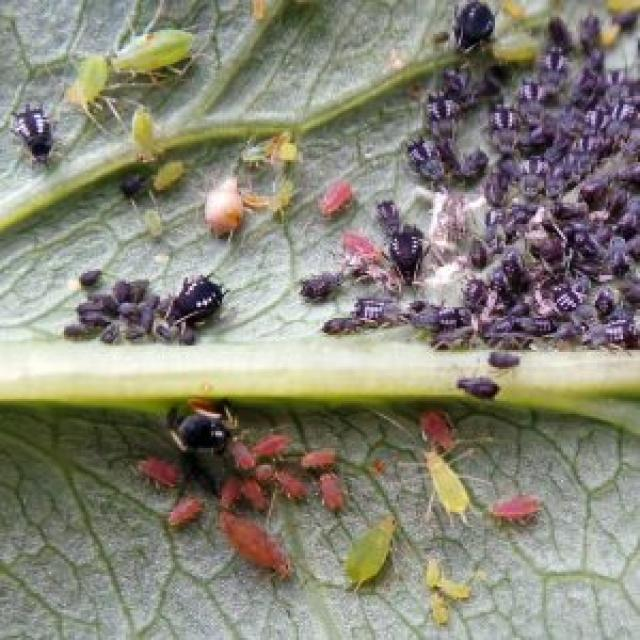Aphid-Grouped-: (423, 1, 635, 351), (119, 422, 374, 585), (58, 265, 234, 353)
Aphid-Grown-: (110, 17, 212, 82), (410, 444, 488, 526), (8, 102, 64, 174), (164, 277, 226, 331), (67, 52, 117, 118), (122, 94, 170, 158), (477, 489, 548, 529), (309, 182, 365, 229), (134, 450, 179, 499), (449, 6, 498, 50), (297, 268, 348, 310), (389, 232, 425, 286), (138, 152, 189, 190), (309, 472, 355, 514), (163, 492, 208, 530), (299, 443, 346, 472), (462, 238, 491, 274)
